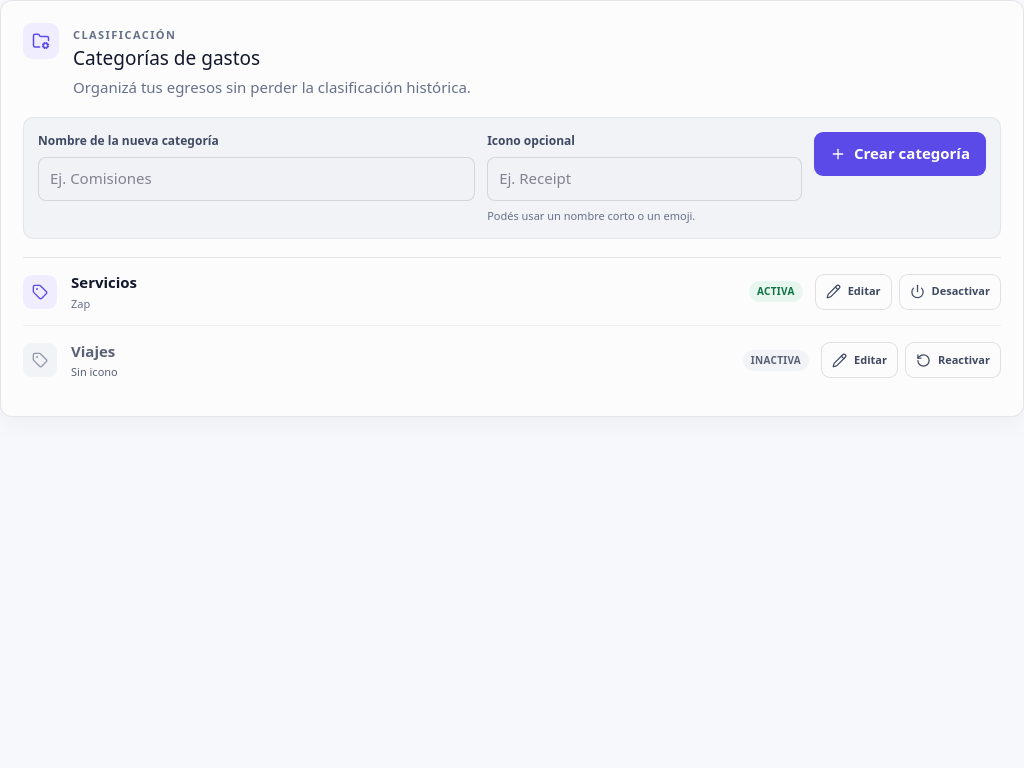
Test: ExpenseCategoryManager › deactivates and reactivates with inline feedback
What coordinates should you click on to do the following:
click the button with aria-label "Desactivar Servicios"
I would click on:
 (950, 292)
Its box is x1=899 y1=274 x2=1001 y2=310.
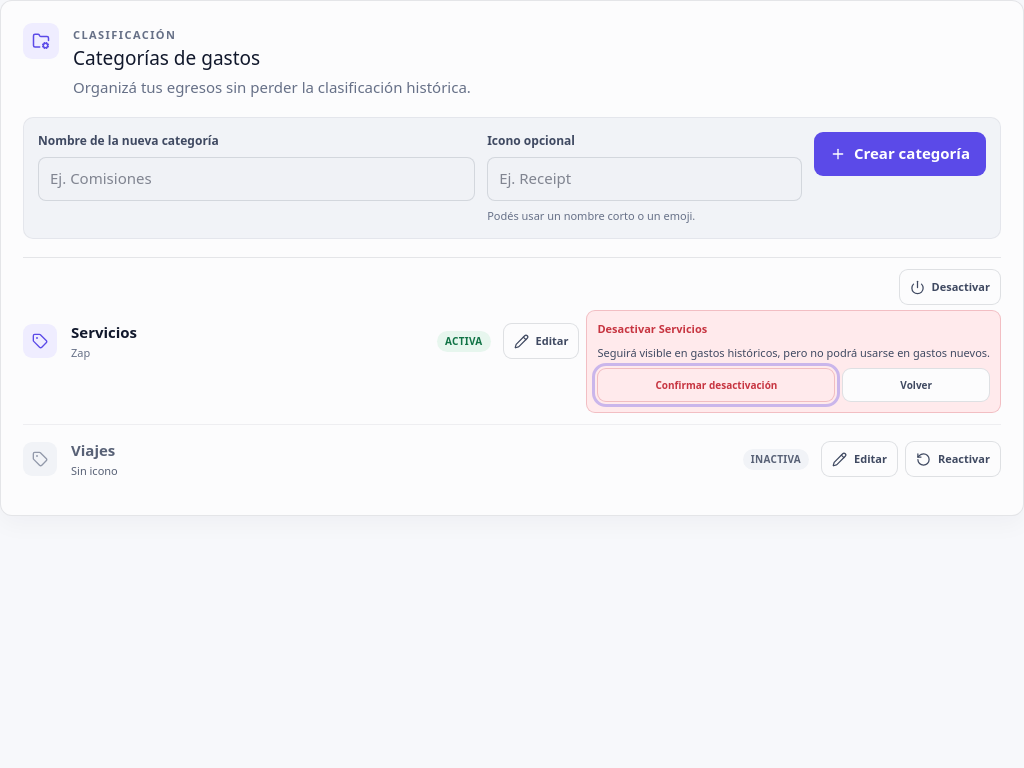
What coordinates should you click on to do the following:
click the button "Confirmar desactivación"
I would click on:
 (716, 385)
Its box is x1=597 y1=368 x2=835 y2=402.
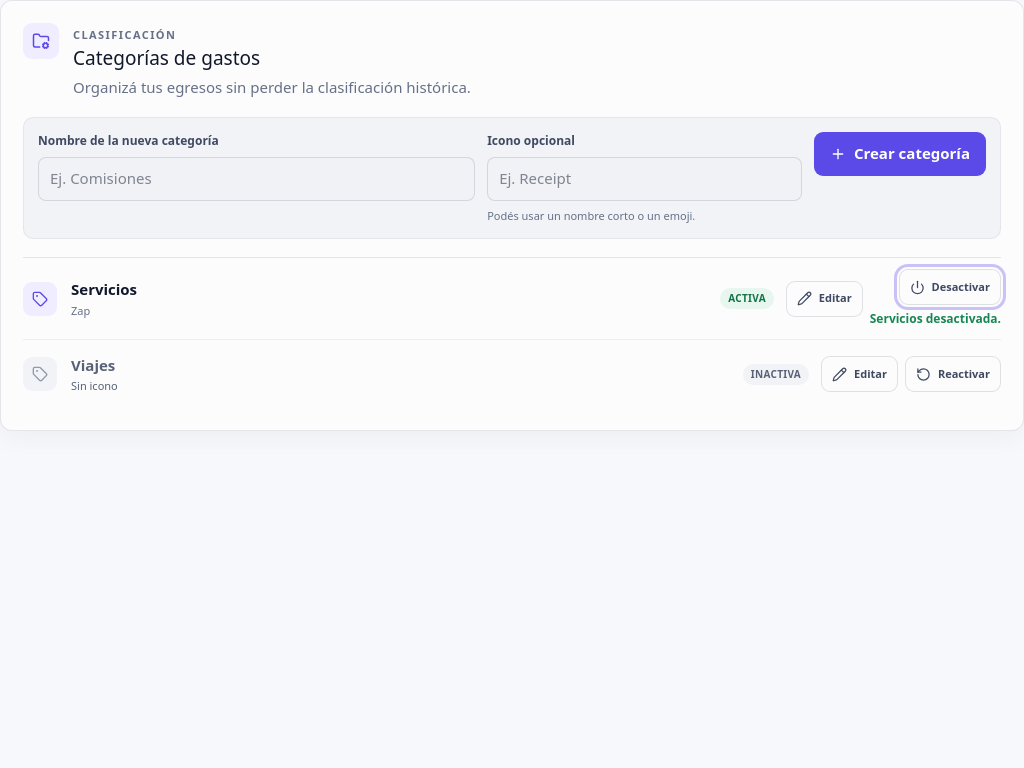
Now the message reads "Servicios desactivada.", box x1=870 y1=310 x2=1001 y2=327
What coordinates should you click on to do the following:
click the button with aria-label "Reactivar Viajes"
I would click on:
 (953, 374)
Its box is x1=905 y1=356 x2=1001 y2=392.
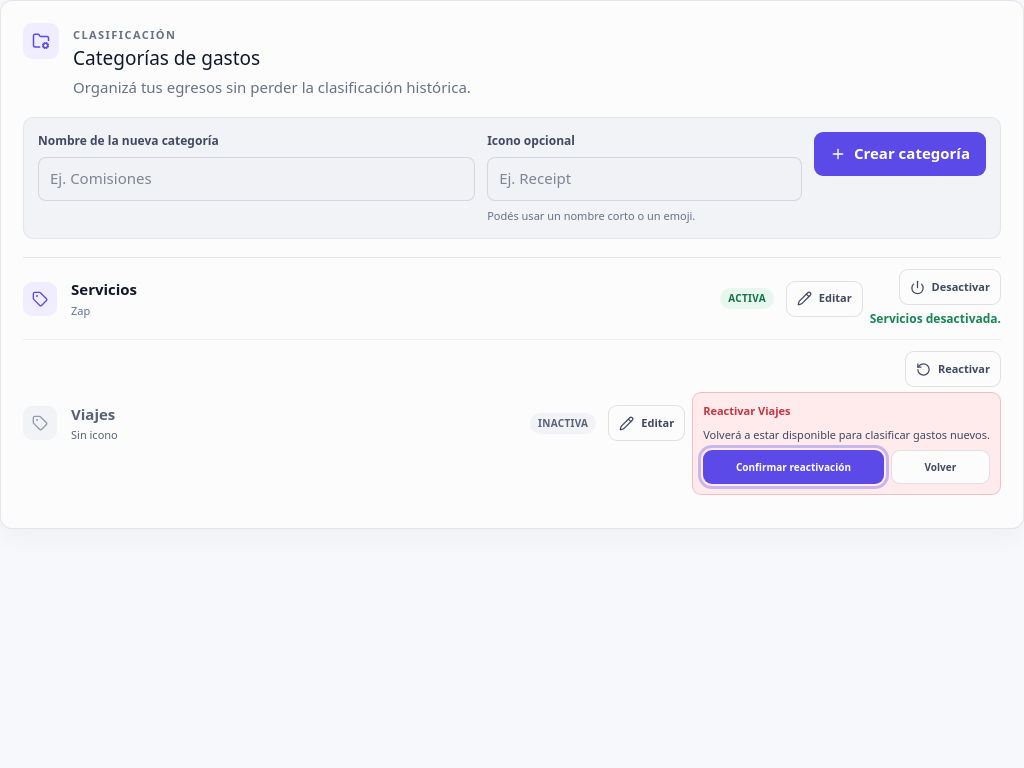
What coordinates should you click on to do the following:
click the button "Confirmar reactivación"
I would click on:
 (794, 467)
Its box is x1=703 y1=450 x2=884 y2=484.
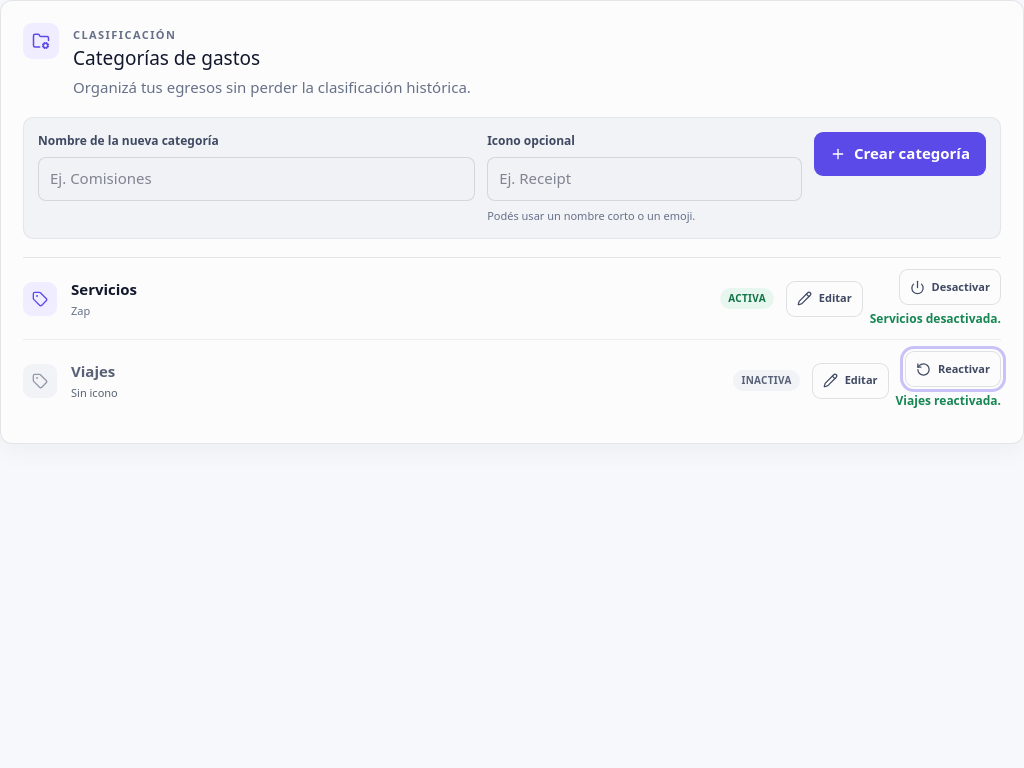
Now the message "Viajes reactivada." is shown, box x1=896 y1=392 x2=1001 y2=410
